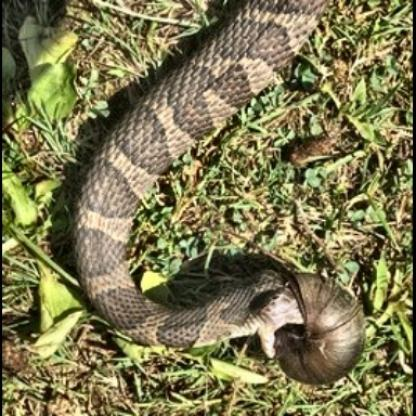Snake: (27, 8, 416, 406)
